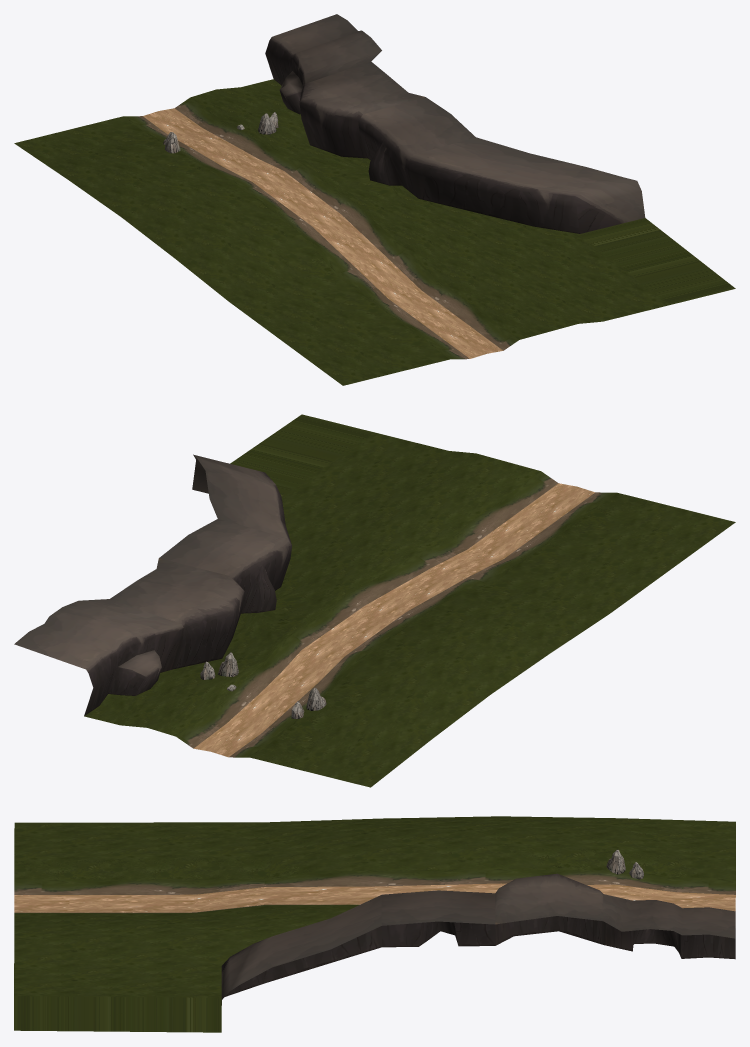
The model's file is t1entrance_1.fbx.
3 views of the same model, one above another, from view 1: azimuth 30°, elevation 25°; view 2: azimuth 150°, elevation 25°; view 3: azimuth 270°, elevation 25° (orthographic). The views are drawn at different scales.
Visible parts, largest first — view 1: Plane, Cube.002; view 2: Plane, Cube.002; view 3: Plane, Cube.002.
Part boxes in pixels (bbox=[...]): Plane: bbox=[14, 14, 735, 385]; Cube.002: bbox=[163, 112, 278, 153]; Plane: bbox=[14, 414, 735, 787]; Cube.002: bbox=[200, 652, 326, 718]; Plane: bbox=[14, 816, 735, 1032]; Cube.002: bbox=[606, 849, 643, 879].
Size of the model in its own units: 1565 by 235 by 2252.
